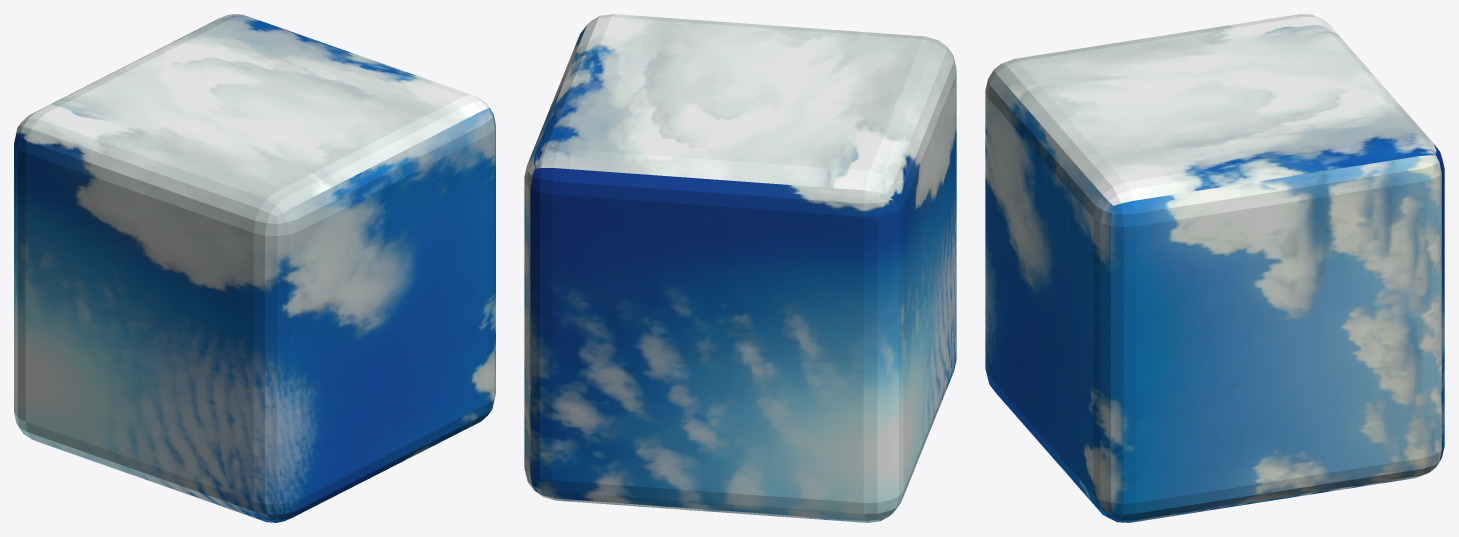
Rendered from 010_Candy_Box_05.fbx.
The picture shows the model from 3 angles, left to right: view 1: azimuth 30°, elevation 25°; view 2: azimuth 150°, elevation 25°; view 3: azimuth 270°, elevation 25°; orthographic projection. The views are drawn at different scales.
Parts seen in each view (by area): view 1: Cube.018; view 2: Cube.018; view 3: Cube.018.
Part boxes in pixels (<box>): Cube.018: <box>14,14,495,522</box>; Cube.018: <box>524,14,956,522</box>; Cube.018: <box>985,14,1444,522</box>.
Bounding box in the file's own units: 139 × 113 × 139.
